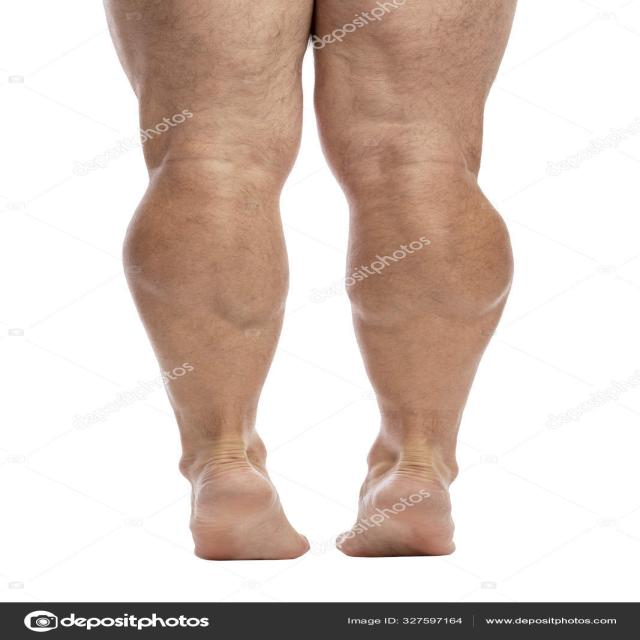Normal: (114, 152, 558, 406)
